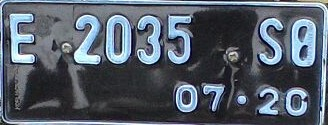plate: (1, 1, 327, 125)
